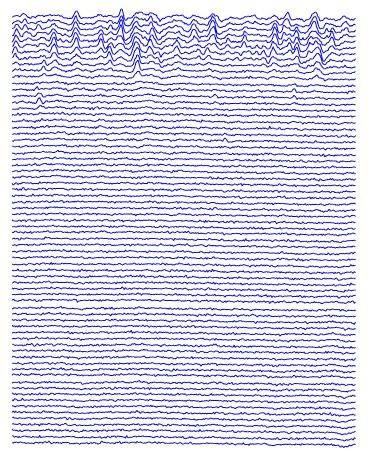defect: (266, 11, 337, 68), (95, 13, 145, 72), (11, 14, 31, 53), (205, 12, 221, 47), (70, 11, 81, 58), (234, 25, 250, 52), (30, 87, 48, 106), (188, 13, 197, 48), (50, 25, 59, 57), (36, 61, 47, 76)
